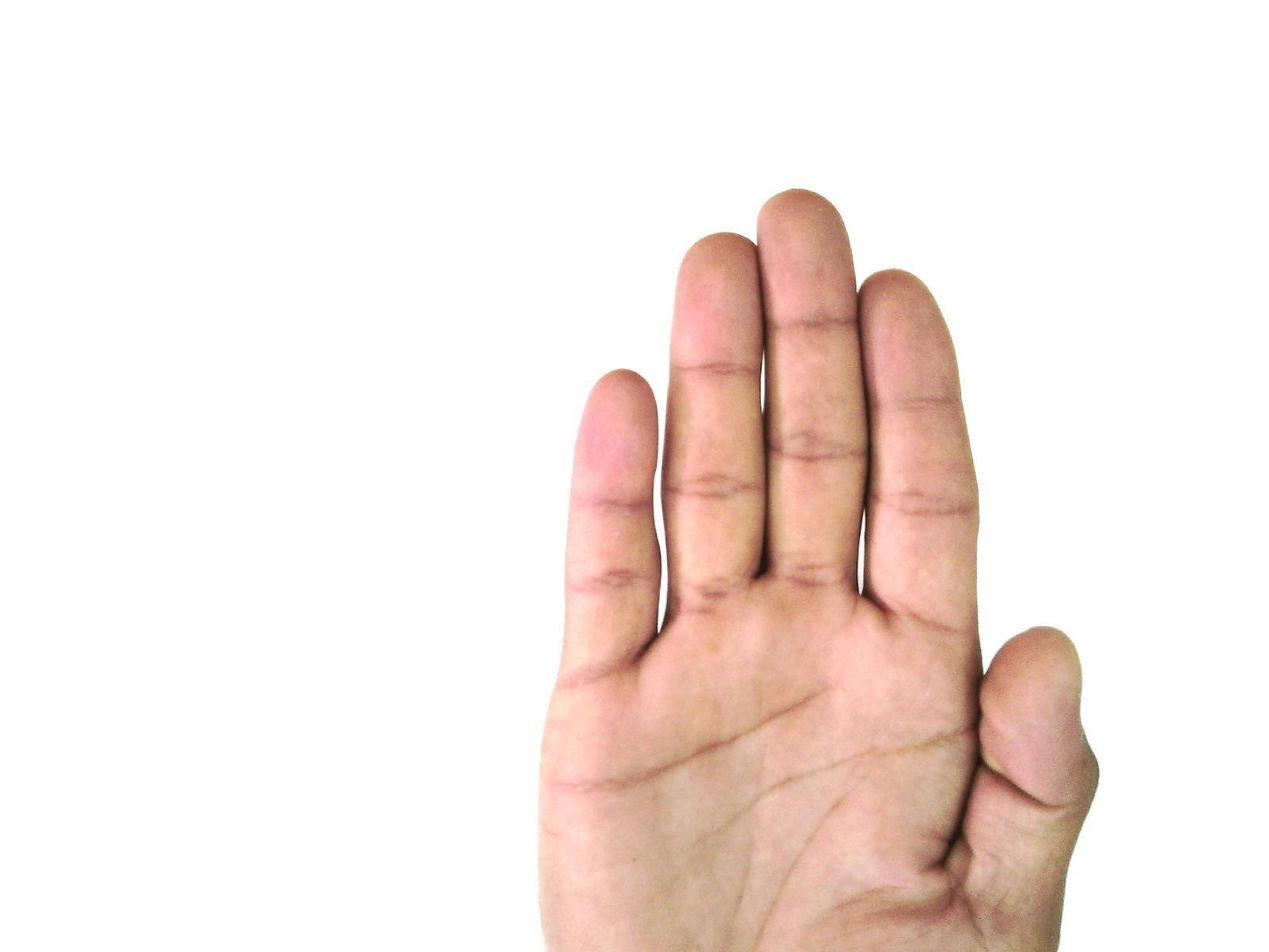open_palm: (534, 187, 1102, 952)
